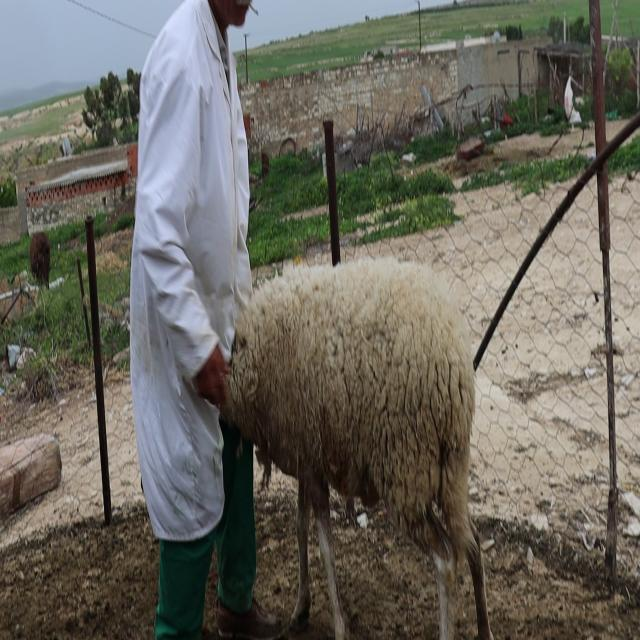Score_3: (221, 259, 492, 639)
